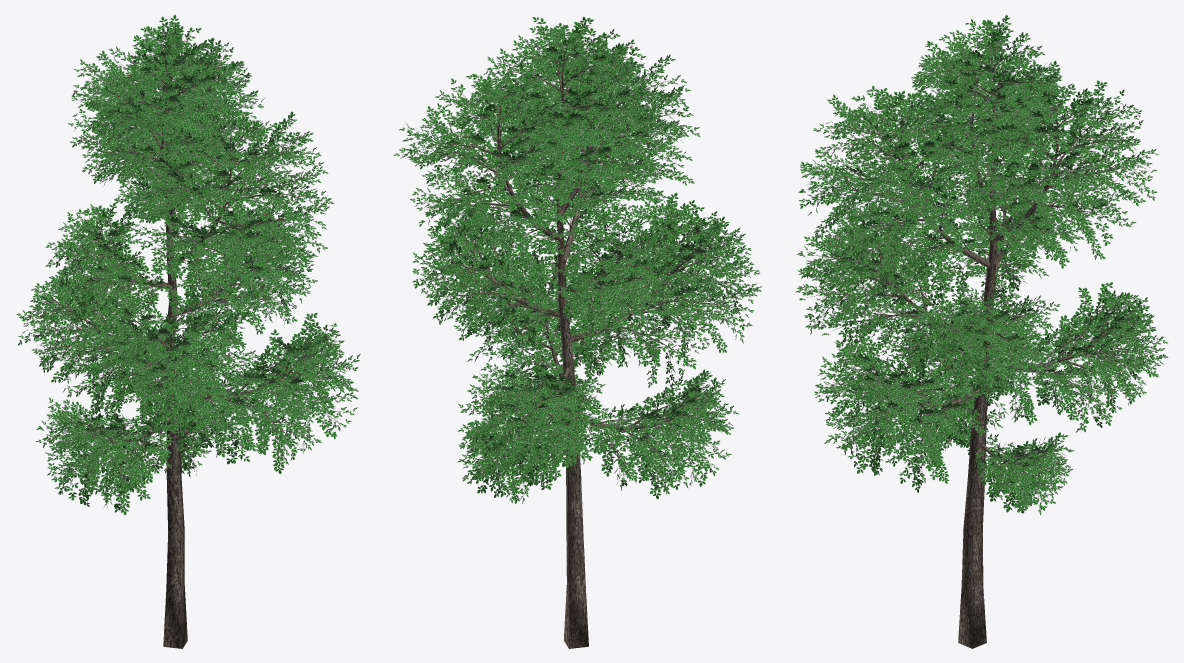
Rendered from tree.fbx.
3 views of the same model, side by side, from view 1: azimuth 30°, elevation 25°; view 2: azimuth 150°, elevation 25°; view 3: azimuth 270°, elevation 25° (orthographic). The views are drawn at different scales.
Visible parts, largest first — view 1: leaves, tree, fruits.1; view 2: leaves, tree, fruits.1; view 3: leaves, tree, fruits.1.
Boxes of the visible parts, x1,y1,x2,y2 form: leaves: (16, 14, 360, 515); tree: (28, 33, 350, 648); fruits.1: (23, 55, 350, 500); leaves: (393, 16, 762, 503); tree: (406, 27, 749, 648); fruits.1: (435, 34, 740, 479); leaves: (795, 15, 1168, 515); tree: (807, 27, 1160, 648); fruits.1: (807, 26, 1153, 477).
Bounding box in the file's own units: 1041 × 2150 × 1190.
4 materials, 4 textured.
